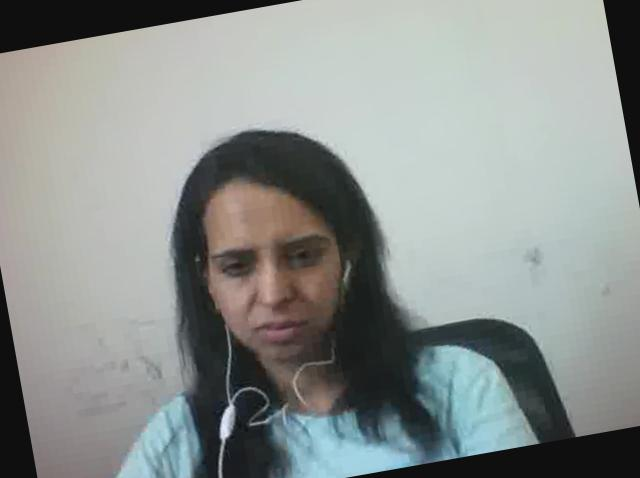bingung: (198, 173, 364, 379)
